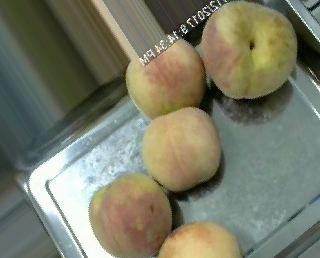Peach: (199, 0, 296, 99), (142, 107, 221, 192), (89, 174, 172, 254), (128, 39, 206, 118)
